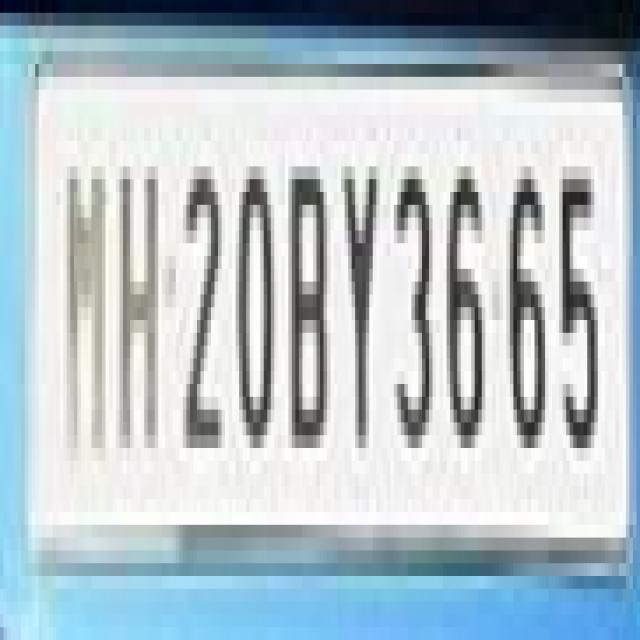0: (234, 160, 276, 456)
3: (390, 154, 436, 459)
5: (554, 152, 608, 474)
6: (444, 144, 489, 456), (505, 142, 548, 452)
B: (283, 142, 333, 463)
H: (114, 170, 164, 472)
M: (63, 144, 111, 460)
Y: (337, 140, 382, 459)
